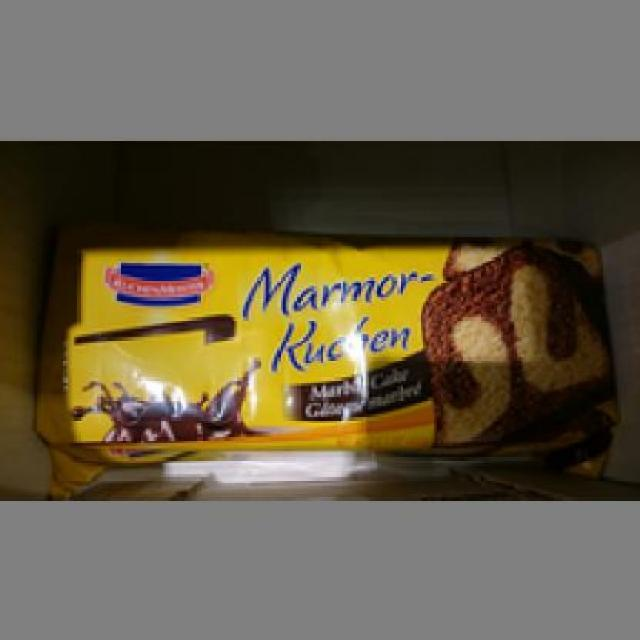Cake: (27, 217, 624, 486)
